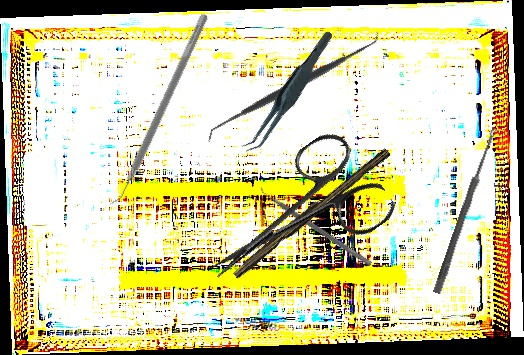Iris Scissors: (184, 123, 401, 319)
Scalpel Handle: (230, 143, 391, 282)
Spatula Surgical: (198, 29, 388, 145), (105, 9, 210, 211), (256, 184, 376, 267)
Surgical Spoon: (432, 126, 499, 295)
Tissue Forceps: (223, 29, 355, 157)
